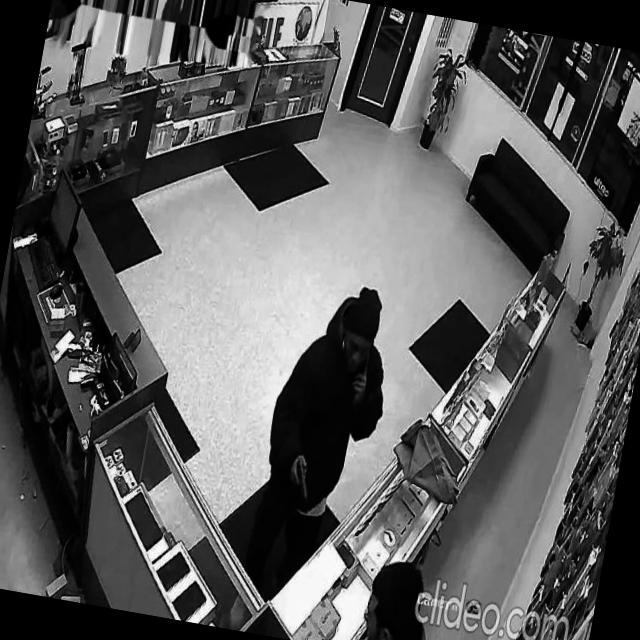gun: (290, 456, 316, 503)
person with a gun: (230, 270, 404, 618)
